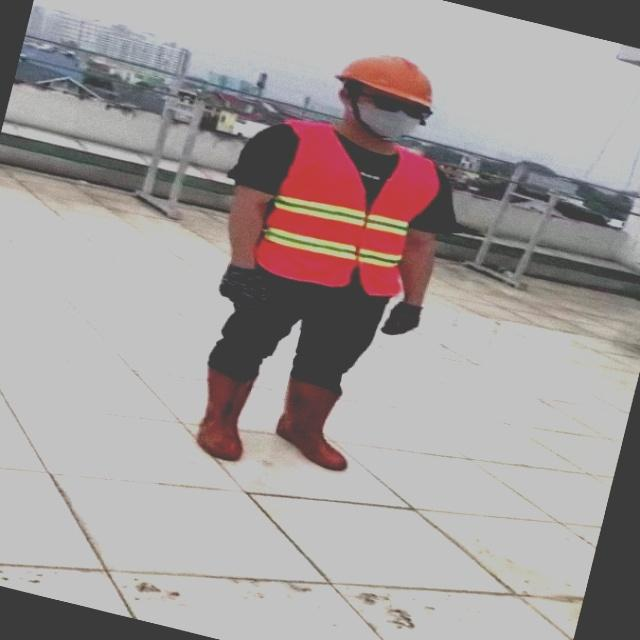helmet: (332, 51, 454, 112)
safety_vest: (259, 125, 426, 304)
